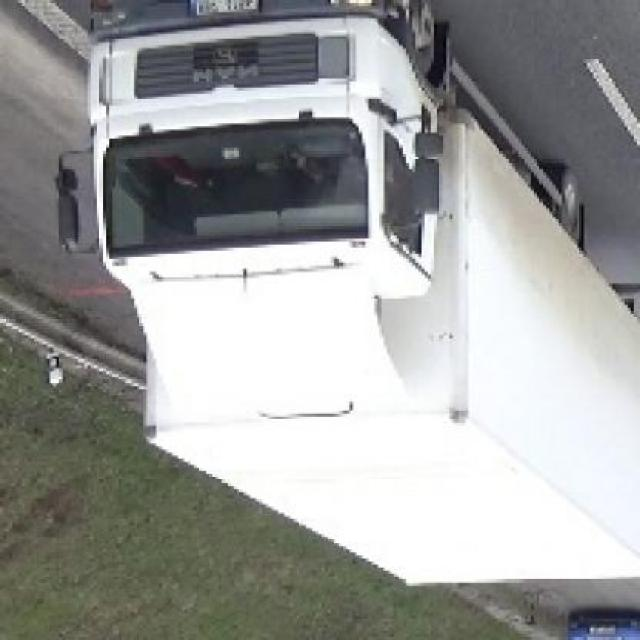truck: (61, 6, 640, 587)
